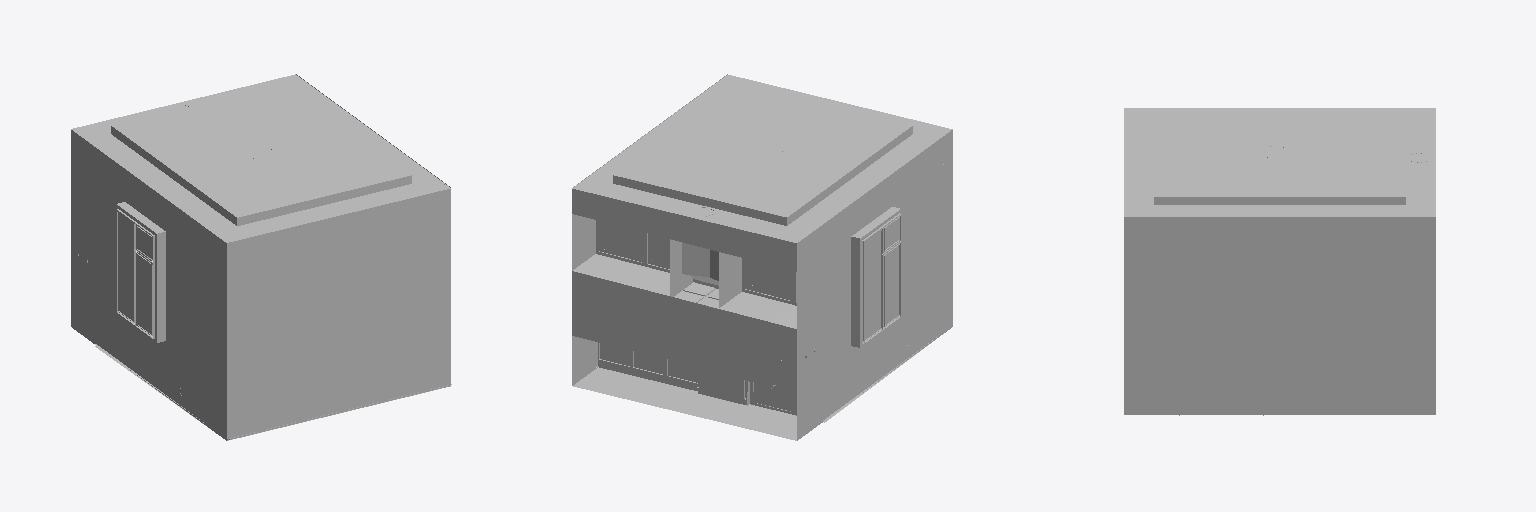
File: OBJ_KitchenScene.obj
The picture shows the model from 3 angles: view 1: azimuth 30°, elevation 25°; view 2: azimuth 150°, elevation 25°; view 3: azimuth 270°, elevation 25°; orthographic projection.
Parts seen in each view (by area): view 1: Object_2; view 2: Object_2; view 3: Object_2.
Part boxes in pixels (left/top/right/bottom): Object_2: left=71, top=74, right=451, bottom=440; Object_2: left=572, top=74, right=952, bottom=440; Object_2: left=1124, top=108, right=1435, bottom=415.
Bounding box in the file's own units: 23.33 × 19.73 × 26.76.